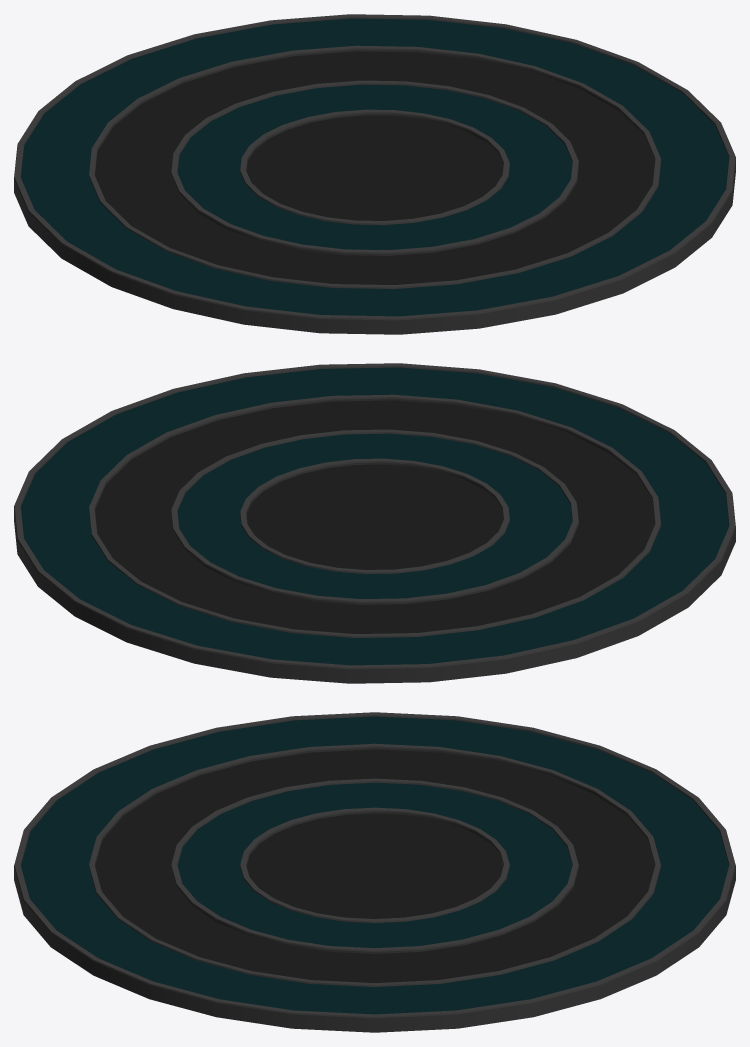
The model's file is W_O_StreetBottom_L0.fbx.
3 renders of one model, top to bottom at view 1: azimuth 30°, elevation 25°; view 2: azimuth 150°, elevation 25°; view 3: azimuth 270°, elevation 25°, orthographic.
Visible parts, largest first — view 1: W_O_StreetBottom_L0; view 2: W_O_StreetBottom_L0; view 3: W_O_StreetBottom_L0.
Part boxes in pixels (left/top/right/bottom): W_O_StreetBottom_L0: left=14, top=14, right=735, bottom=334; W_O_StreetBottom_L0: left=14, top=363, right=735, bottom=683; W_O_StreetBottom_L0: left=14, top=712, right=735, bottom=1032.
Size of the model in its own units: 4.05 by 0.0971 by 4.05.
